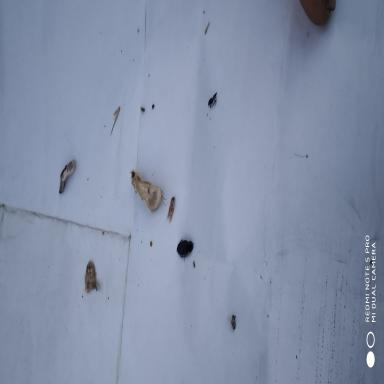pbw: (129, 166, 167, 215), (163, 190, 176, 225)
